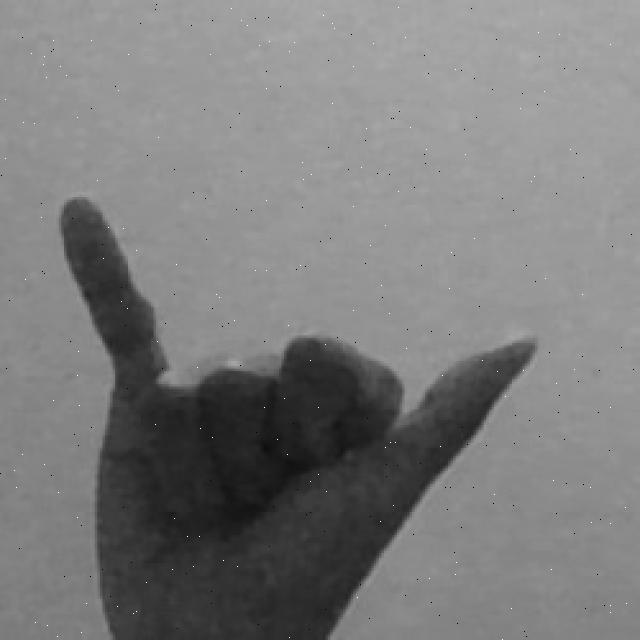Y: (54, 189, 545, 640)
